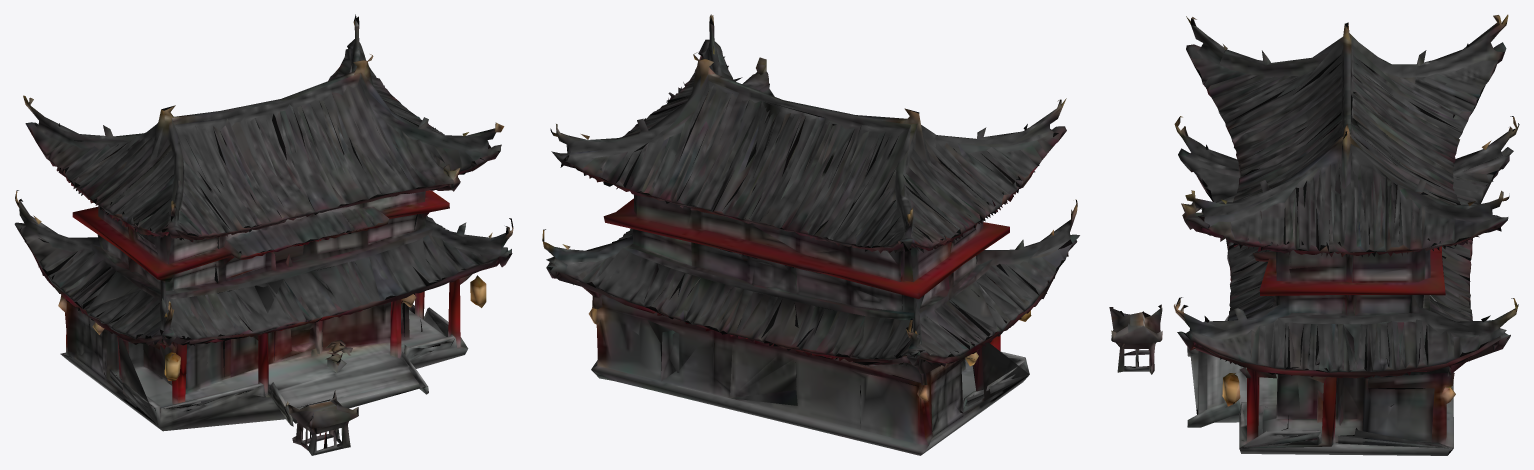
File: hall_main.bk.glb
3 views of the same model, side by side, from view 1: azimuth 30°, elevation 25°; view 2: azimuth 150°, elevation 25°; view 3: azimuth 270°, elevation 25° (orthographic). The views are drawn at different scales.
Parts seen in each view (by area): view 1: lo; view 2: lo; view 3: lo.
Boxes of the visible parts, left/top/right/bottom form: lo: left=14, top=14, right=513, bottom=455; lo: left=542, top=14, right=1079, bottom=455; lo: left=1109, top=14, right=1519, bottom=455.
Bounding box in the file's own units: 1.9 × 1.47 × 1.74.
1 material, 1 textured.
